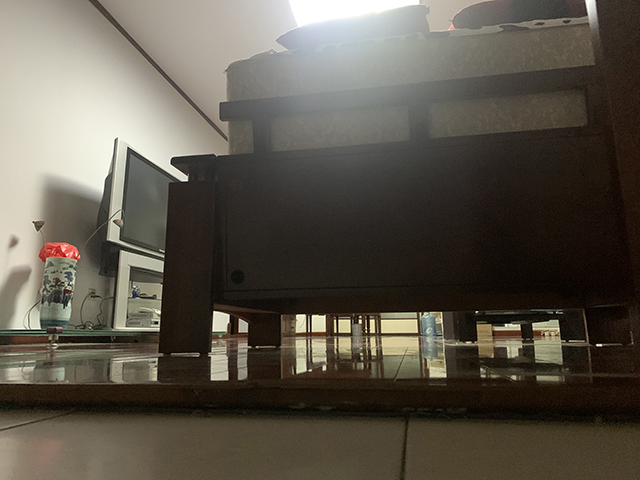cabinet: (1, 248, 165, 350)
sofa: (157, 1, 640, 357)
trashcan: (350, 322, 363, 338)
